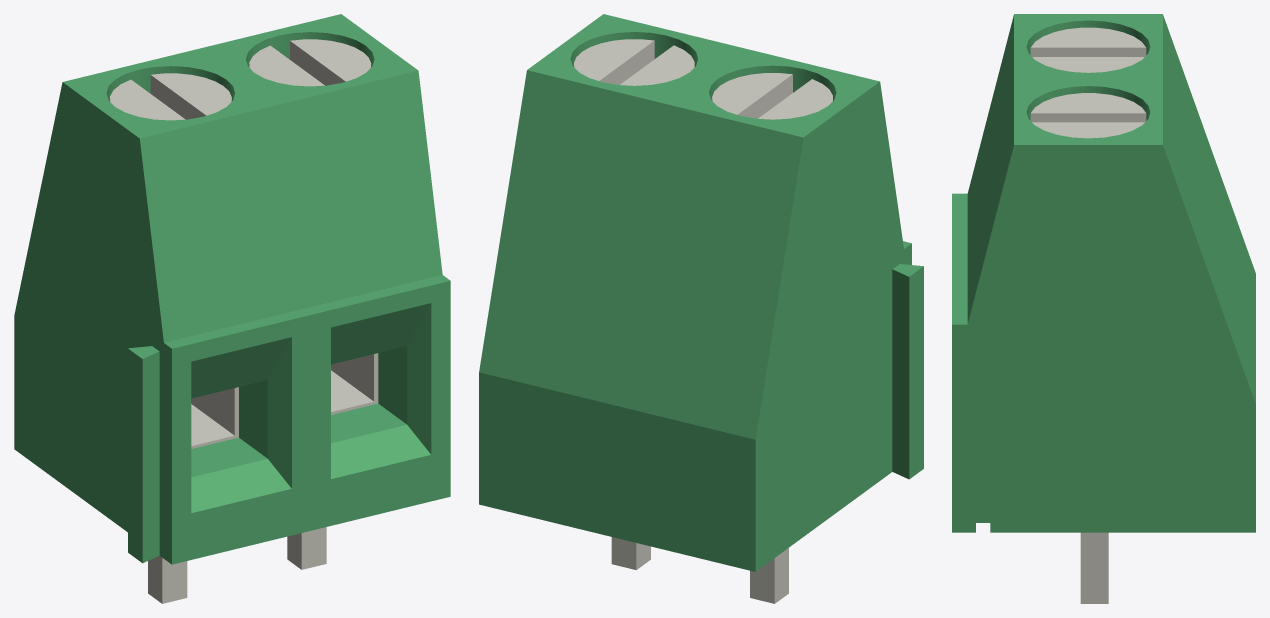
The model's file is TerminalBlock_Phoenix_MKDS-1,5-2_1x02_P5.00mm_Horizontal.glb.
3 renders of one model, left to right at view 1: azimuth 30°, elevation 25°; view 2: azimuth 150°, elevation 25°; view 3: azimuth 270°, elevation 25°, orthographic. The views are drawn at different scales.
Parts seen in each view (by area): view 1: =>[0:1:1:3]; view 2: =>[0:1:1:3]; view 3: =>[0:1:1:3].
Part boxes in pixels (box(x1,y1,x2,y2)): =>[0:1:1:3]: box(14, 14, 450, 603); =>[0:1:1:3]: box(479, 14, 923, 603); =>[0:1:1:3]: box(952, 14, 1255, 603).
Bounding box in the file's own units: 0.0107 × 0.0173 × 0.0098.
